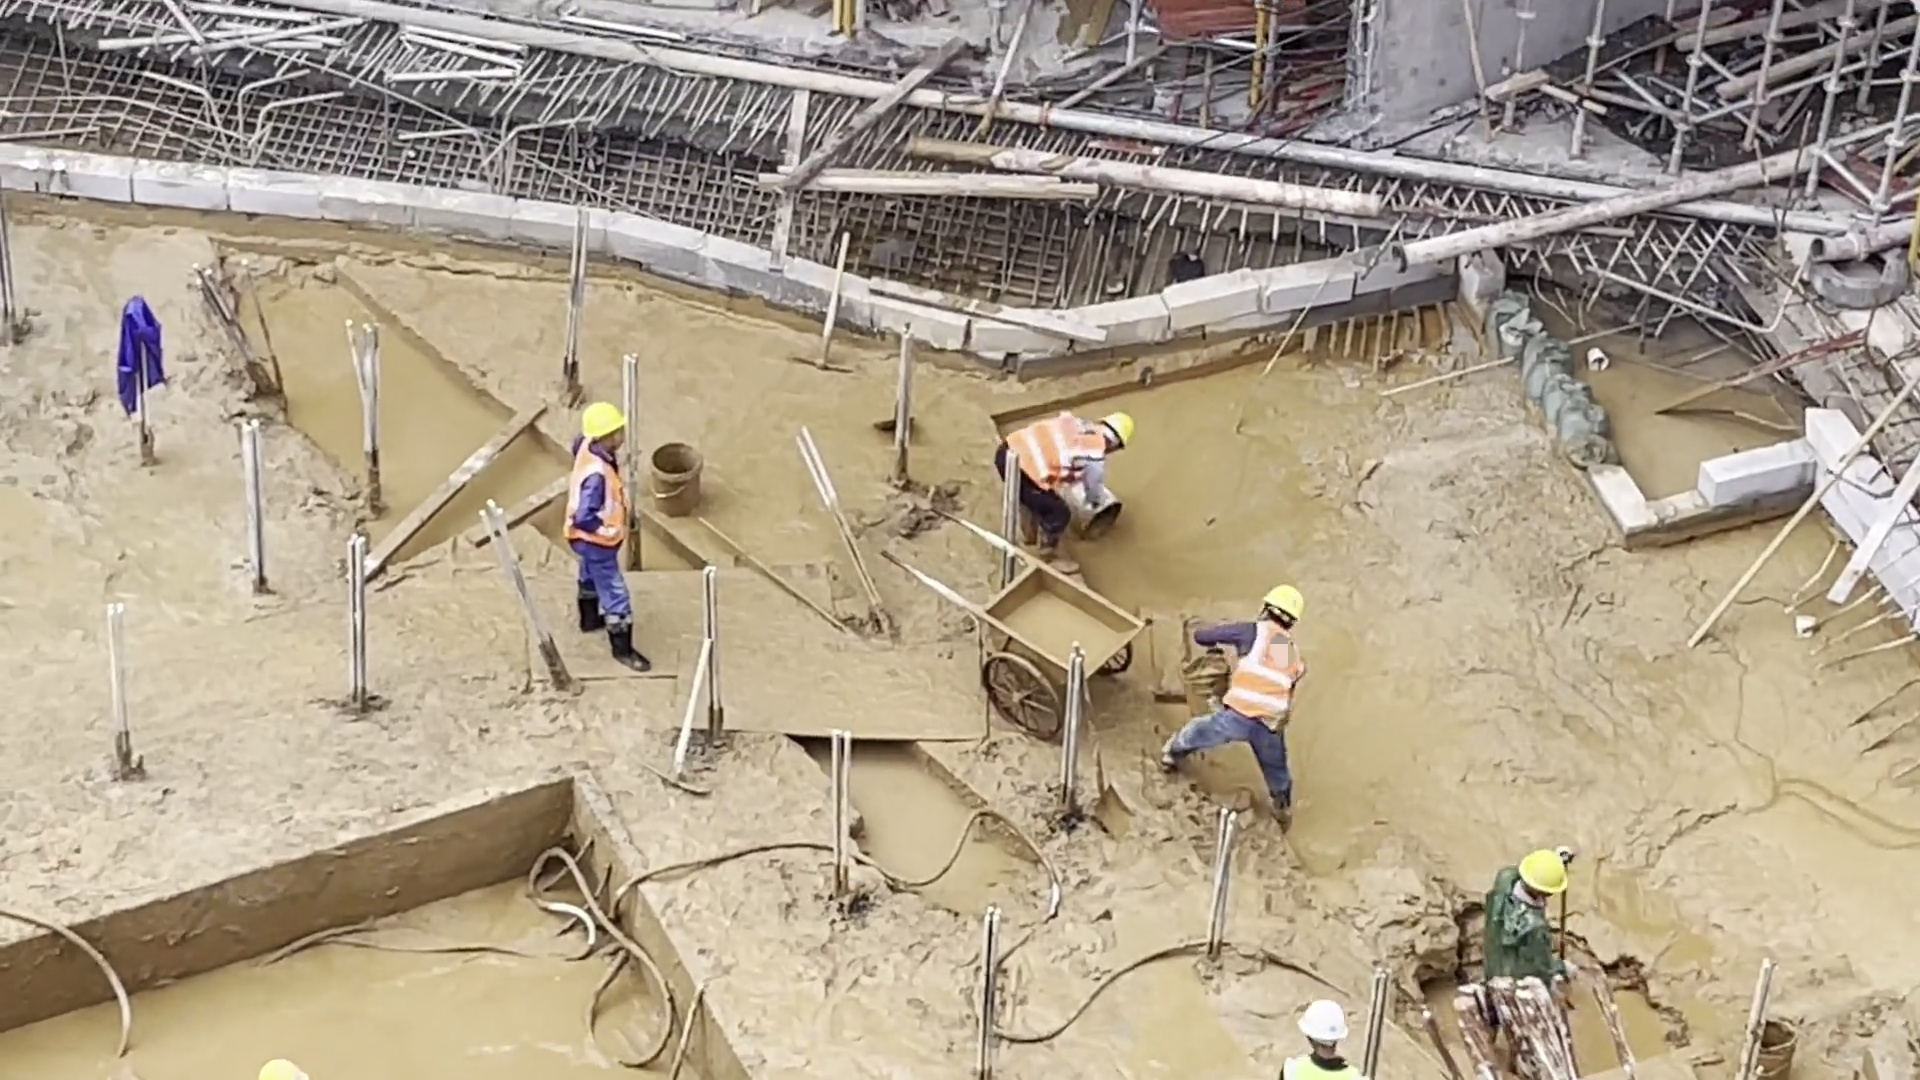handcart: (882, 505, 1149, 746)
helmet: (1298, 998, 1354, 1045), (1518, 847, 1569, 897), (579, 401, 627, 442), (1263, 582, 1306, 619), (1097, 412, 1136, 449)
person: (1157, 581, 1300, 823), (991, 401, 1135, 566), (564, 401, 648, 672), (1475, 843, 1564, 994), (1273, 996, 1364, 1080)
vest: (998, 416, 1115, 488), (1233, 623, 1302, 730), (565, 437, 629, 547)
